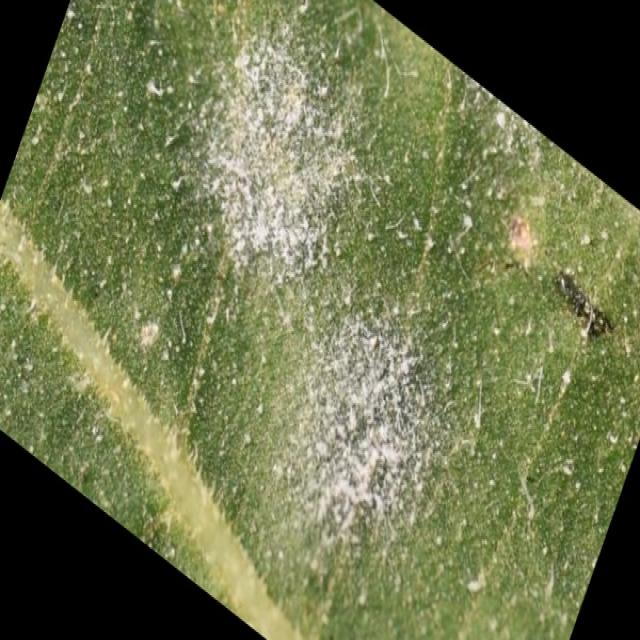Powdery Mildew: (154, 48, 460, 494)
